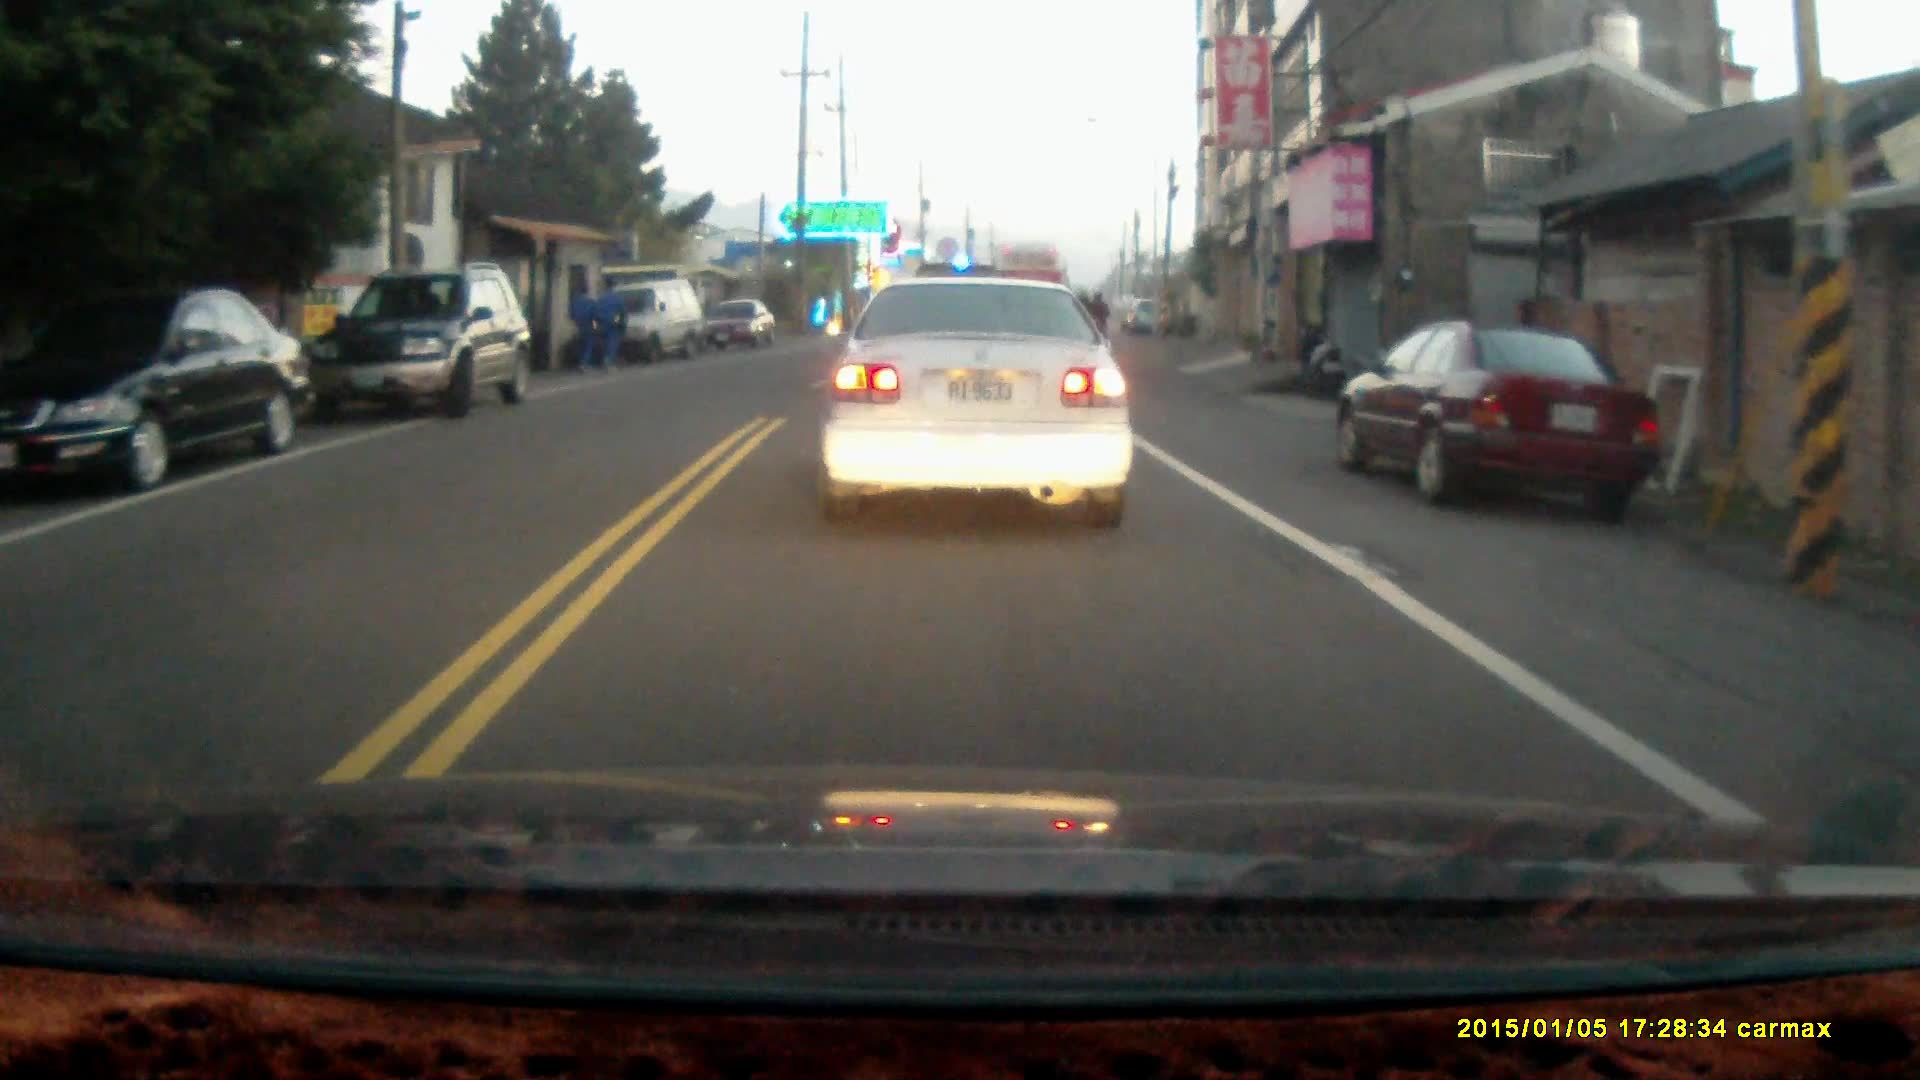pedestrian: (566, 283, 598, 381), (594, 276, 624, 376)
vehicle: (820, 278, 1131, 537), (1337, 324, 1662, 525), (5, 294, 314, 498), (294, 268, 536, 426), (598, 284, 718, 367), (693, 306, 778, 359)
